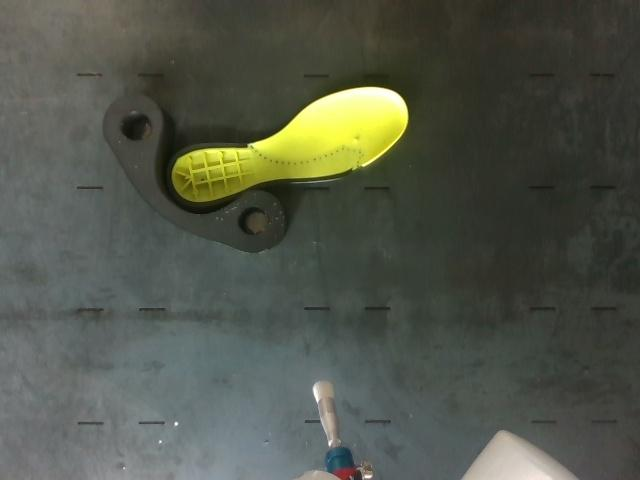shoes: (167, 87, 408, 207)
